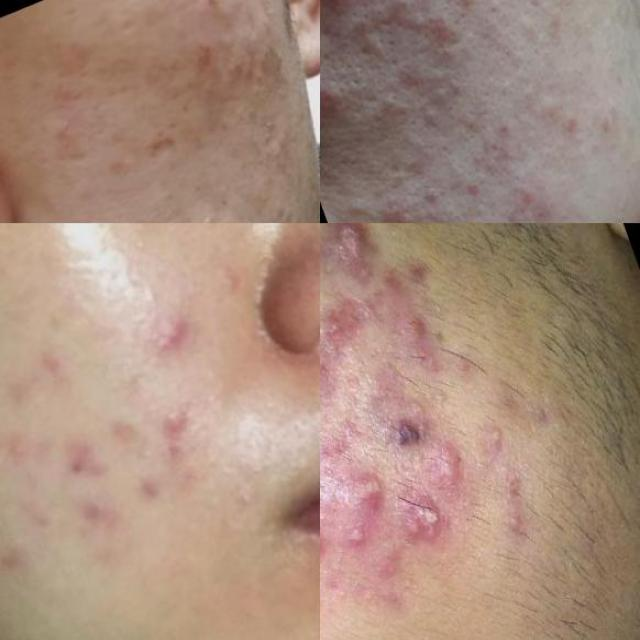acne_scars: (127, 116, 194, 189)
comedone: (397, 51, 474, 143), (0, 223, 84, 251), (186, 196, 251, 223), (234, 16, 273, 58), (235, 68, 274, 106), (412, 176, 442, 210), (364, 0, 396, 31), (579, 131, 605, 161), (390, 0, 416, 23), (412, 0, 444, 13)
papule: (130, 297, 210, 368), (68, 477, 124, 539), (142, 396, 198, 450), (519, 0, 578, 48), (0, 414, 48, 469), (510, 176, 544, 212), (486, 110, 520, 144), (320, 72, 345, 115), (554, 108, 584, 140), (440, 0, 486, 19), (524, 196, 553, 223), (460, 172, 486, 199)
pustule: (472, 408, 532, 472), (330, 510, 378, 567)
sebo-crystan-conglo: (390, 478, 474, 572), (320, 223, 400, 308), (364, 393, 439, 463), (325, 459, 386, 522)
